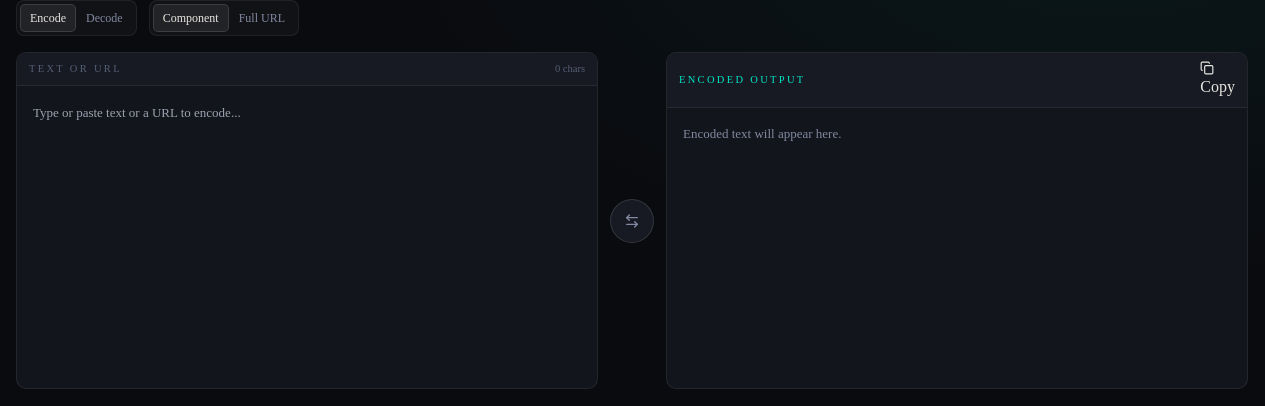
Test case: UrlEncoderClient tabs › swaps a valid conversion result
The image size is (1265, 406).
Step 1. Click the tab "Decode" → (104, 18), box left=76, top=4, right=133, bottom=32
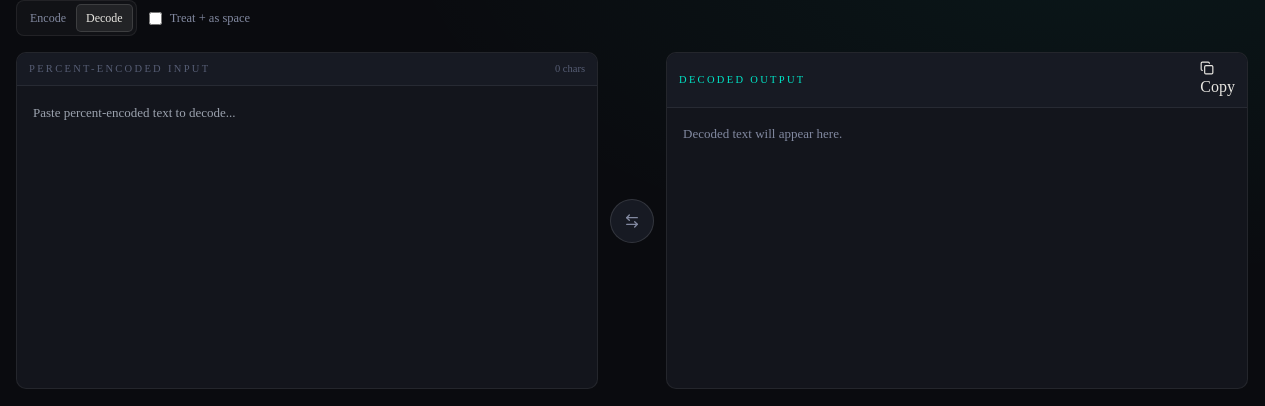
Step 2. Type "Hello%20world" into the text box labelled "percent-encoded text to decode" → (307, 237), box left=17, top=86, right=597, bottom=388
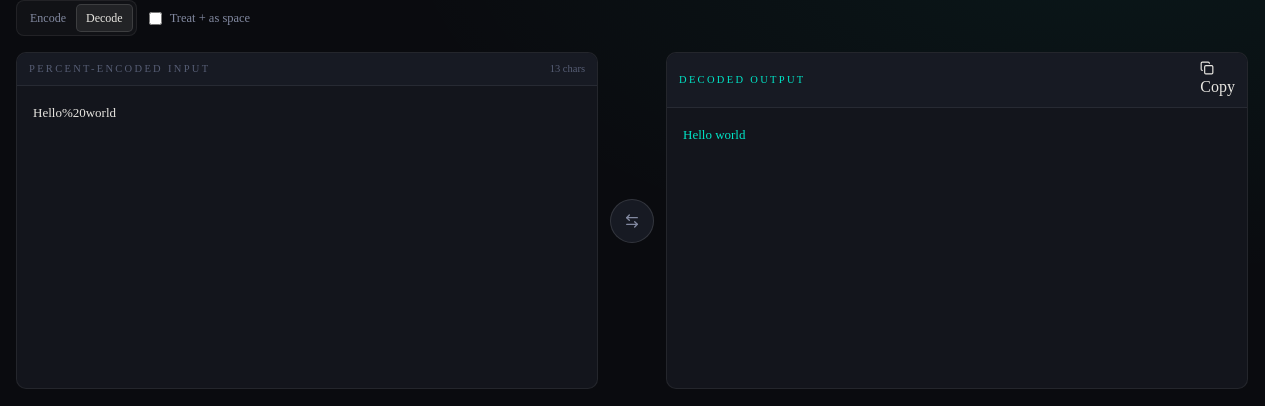
expect the text "Hello world" is shown: met, box left=683, top=127, right=746, bottom=142
Step 3. Click the button named "Swap direction" → (632, 220), box left=610, top=198, right=654, bottom=242
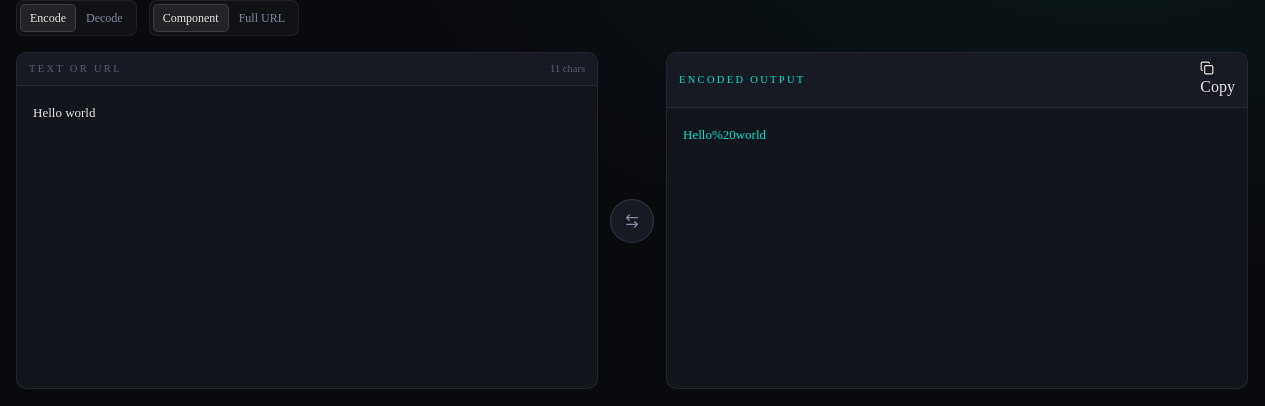
expect the text box named "Text or URL to encode" holds "Hello world": met, box left=17, top=86, right=597, bottom=388
expect the text "Hello%20world" is shown: met, box left=683, top=127, right=766, bottom=142
